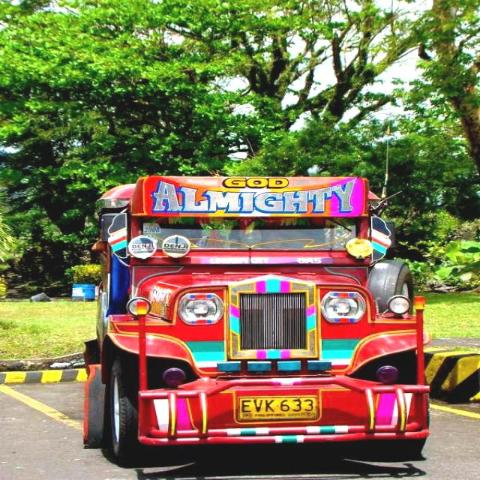jeepney: (85, 168, 455, 480)
